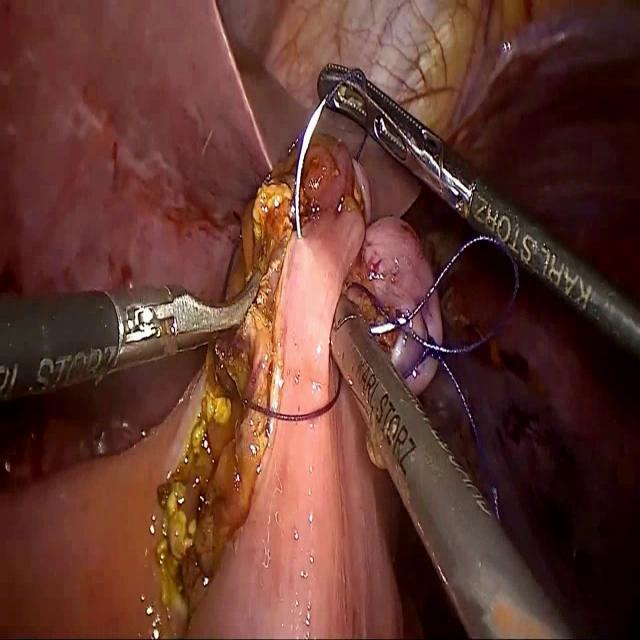surgical-tool: (316, 62, 640, 361), (328, 288, 582, 639), (0, 268, 264, 403)
